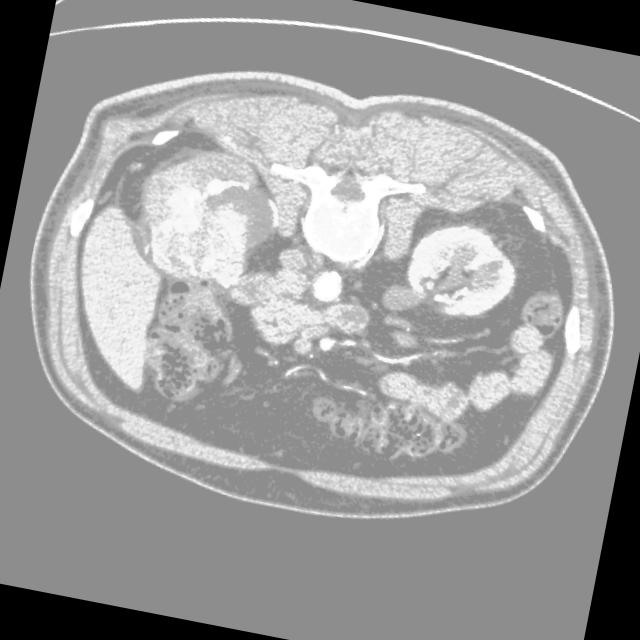TUMOR: (73, 116, 583, 390)
